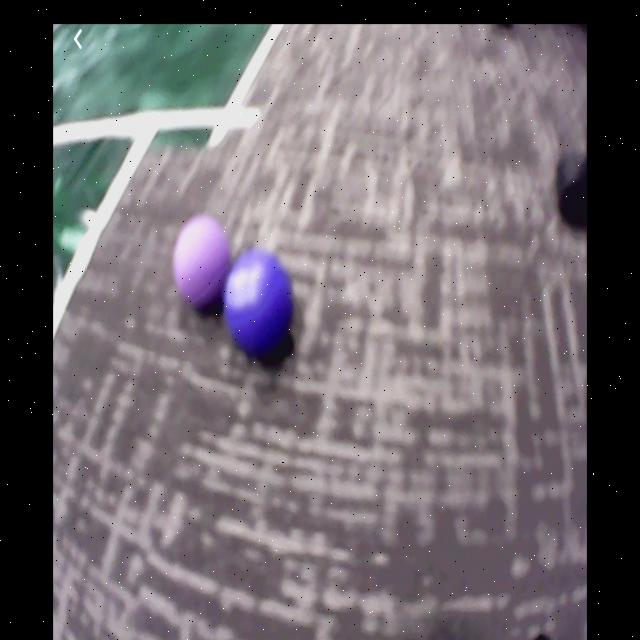ball: (222, 251, 295, 358), (173, 215, 228, 314)
